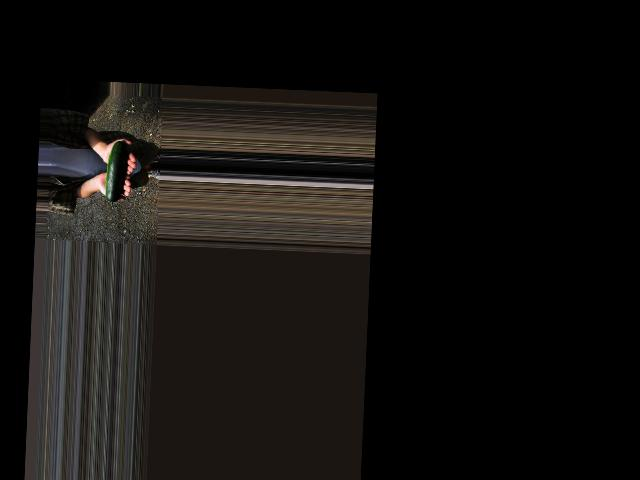cucumber: (105, 141, 127, 210)
